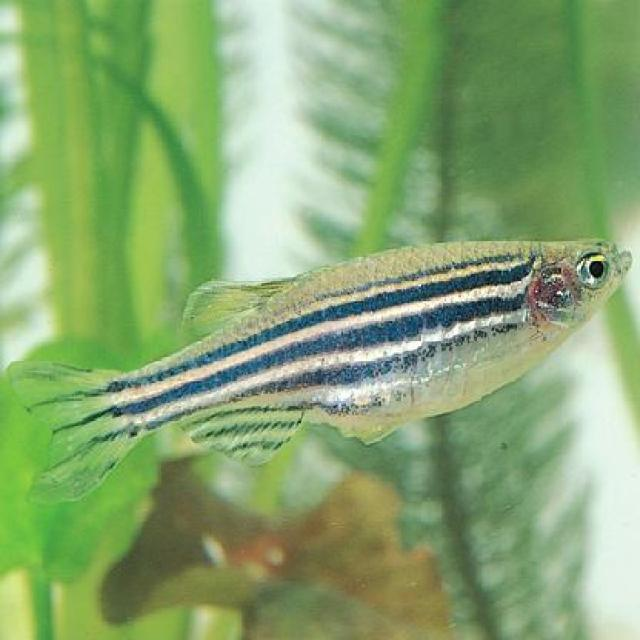ZebraFish: (4, 232, 633, 513)
